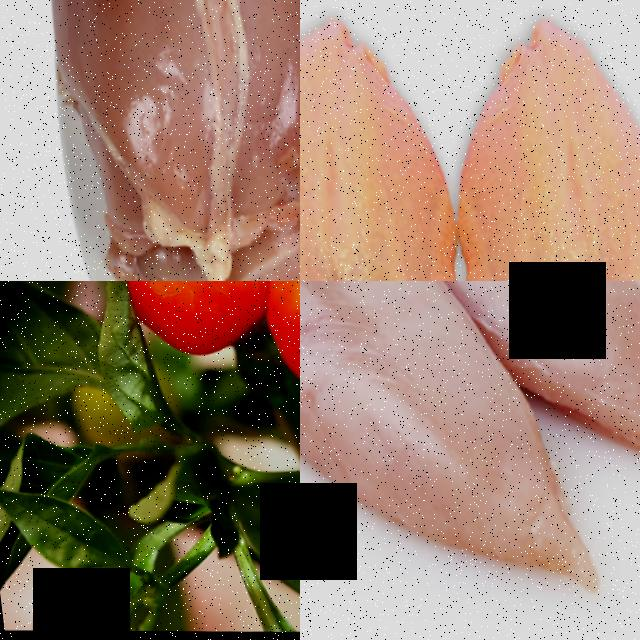chicken breast: (0, 0, 300, 281), (414, 0, 640, 281), (300, 0, 472, 281), (464, 281, 640, 460), (300, 281, 411, 518)
